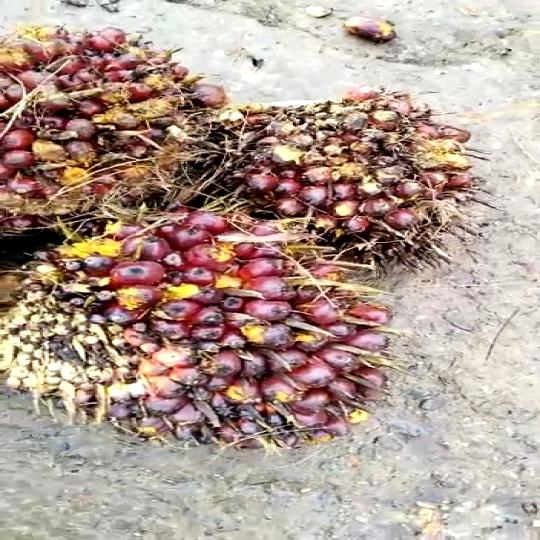masak: (0, 194, 411, 451), (198, 91, 497, 284), (0, 16, 212, 268)
